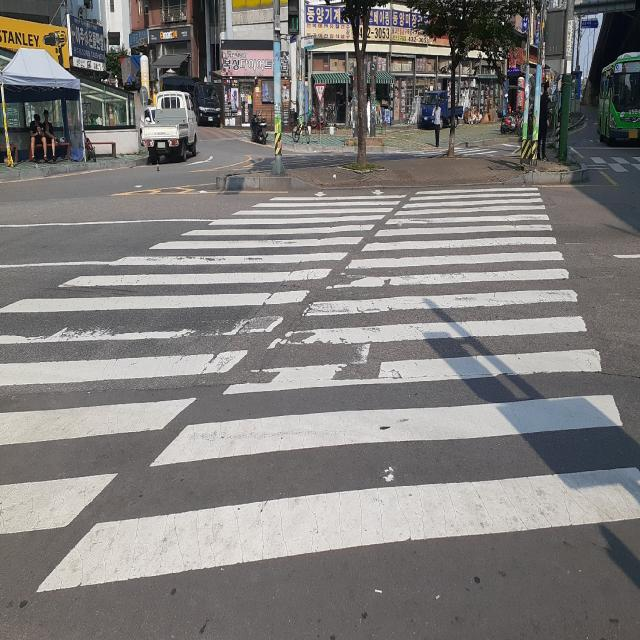초록불: (288, 0, 299, 30)
횡단보도: (0, 185, 640, 598)
